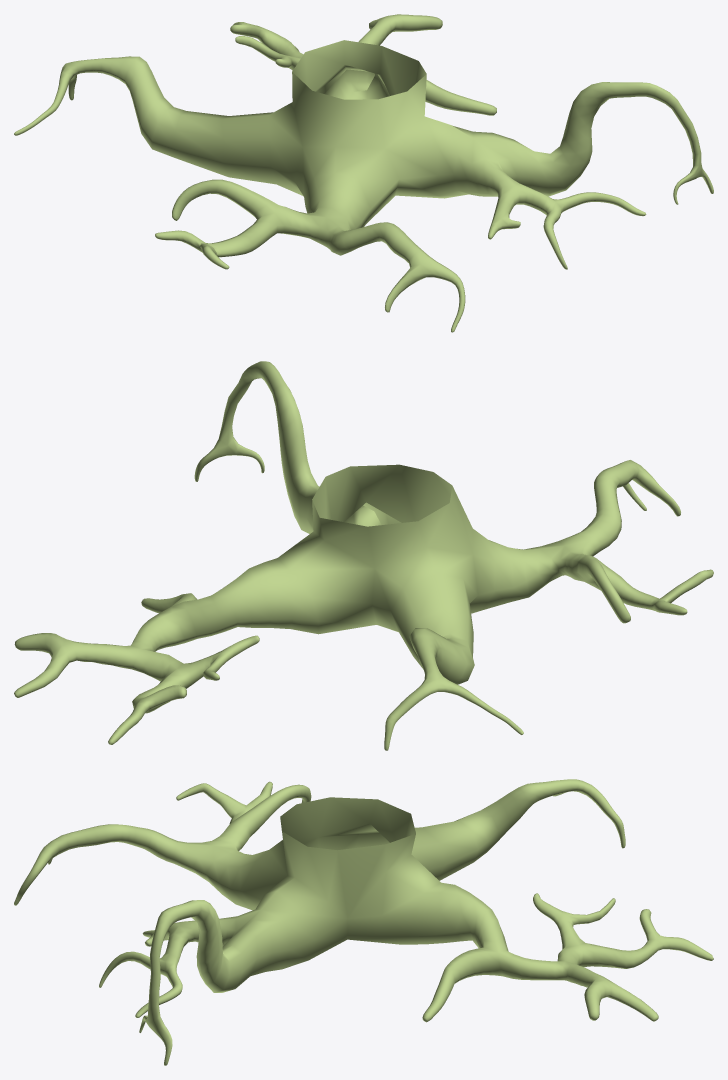
The model's file is Big tree branches.fbx.
3 renders of one model, top to bottom at view 1: azimuth 30°, elevation 25°; view 2: azimuth 150°, elevation 25°; view 3: azimuth 270°, elevation 25°, orthographic. The views are drawn at different scales.
Parts seen in each view (by area): view 1: polySurface590; view 2: polySurface590; view 3: polySurface590.
Part boxes in pixels (bbox=[...]): polySurface590: bbox=[14, 14, 713, 332]; polySurface590: bbox=[14, 361, 713, 750]; polySurface590: bbox=[14, 779, 713, 1065].
Size of the model in its own units: 260 by 65.95 by 317.
